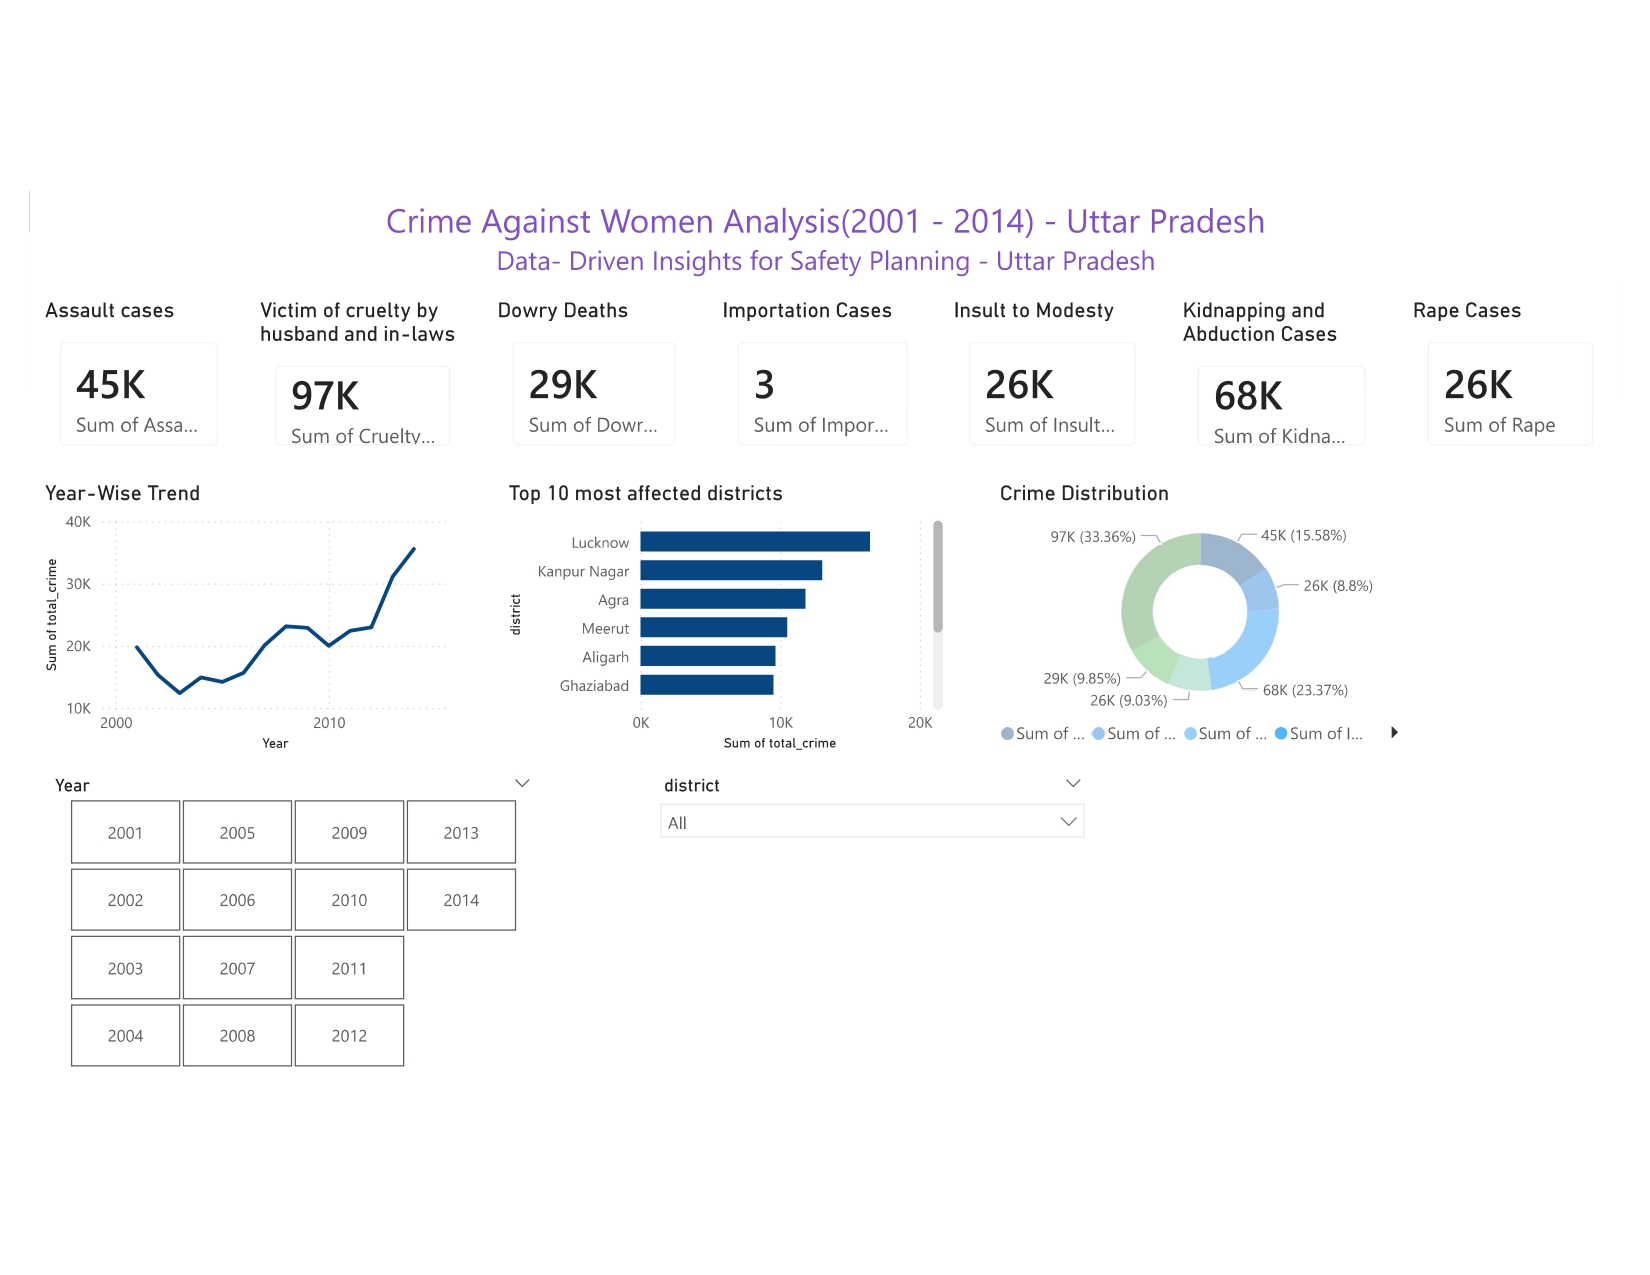

The page's visual inventory and layout, read from the dashboard file:
{"tool":"powerbi","page":{"name":"Page 1","canvas":[1280,720],"ordinal":0},"visuals":[{"type":"cardVisual","title":"Assault cases","fields":{"Data":["Sum(up_women_crime.Assault_to_outrage_her_modesty)"]},"box":[7.2,86.4,161,136.8],"z":0},{"type":"cardVisual","title":"Victim of cruelty by husband and in-laws","fields":{"Data":["Sum(up_women_crime.Cruelty_by_Husband_or_his_Relatives)"]},"box":[179.5,86.4,175.7,136.8],"z":1000},{"type":"cardVisual","title":"Dowry Deaths","fields":{"Data":["Sum(up_women_crime.Dowry_Deaths)"]},"box":[370.6,86.4,165.6,136.8],"z":2000},{"type":"cardVisual","title":"Importation Cases","fields":{"Data":["Sum(up_women_crime.Importation_Girls)"]},"box":[551.5,86.4,171.4,136.8],"z":3000},{"type":"cardVisual","title":"Insult to Modesty","fields":{"Data":["Sum(up_women_crime.Insult_to_modesty_of_Women)"]},"box":[738.2,86.4,168.5,136.8],"z":4000},{"type":"cardVisual","title":"Kidnapping and Abduction Cases","fields":{"Data":["Sum(up_women_crime.Kidnapping_Abduction)"]},"box":[922.1,86.4,169.9,136.8],"z":5000},{"type":"cardVisual","title":"Rape Cases","fields":{"Data":["Sum(up_women_crime.Rape)"]},"box":[1107.4,86.4,167,136.8],"z":6000},{"type":"lineChart","title":" Year-Wise Trend","fields":{"Y":["Sum(up_women_crime.total_crime)"],"Category":["up_women_crime.Year"]},"box":[7.2,233.3,337,221.8],"z":7000},{"type":"clusteredBarChart","title":"Top 10 most affected districts","fields":{"Category":["up_women_crime.district"],"Y":["Sum(up_women_crime.total_crime)"]},"box":[380.2,233.3,358.6,221.8],"z":8000},{"type":"donutChart","title":"Crime Distribution","fields":{"Y":["Sum(up_women_crime.Assault_to_outrage_her_modesty)","Sum(up_women_crime.Rape)","Sum(up_women_crime.Kidnapping_Abduction)","Sum(up_women_crime.Importation_Girls)","Sum(up_women_crime.Insult_to_modesty_of_Women)","Sum(up_women_crime.Dowry_Deaths)","Sum(up_women_crime.Cruelty_by_Husband_or_his_Relatives)"]},"box":[774.7,233.3,332.6,221.8],"z":9000},{"type":"slicer","fields":{"Values":["up_women_crime.Year"]},"box":[7,465,408,246],"z":10000},{"type":"slicer","fields":{"Values":["up_women_crime.district"]},"box":[497,465,361,246],"z":11000},{"type":"textbox","box":[0,0,1280.2,74.9],"z":12000}]}

Visuals, with their boxes on the page's 1280x720 design canvas (x1, y1, x2, y2). These are canvas units, not pixel positions in the 1650x1275 screenshot, which may show the page scaled, cropped or inside an application window:
"Assault cases" cardVisual: x1=7, y1=86, x2=168, y2=223
"Victim of cruelty by husband and in-laws" cardVisual: x1=180, y1=86, x2=355, y2=223
"Dowry Deaths" cardVisual: x1=371, y1=86, x2=536, y2=223
"Importation Cases" cardVisual: x1=552, y1=86, x2=723, y2=223
"Insult to Modesty" cardVisual: x1=738, y1=86, x2=907, y2=223
"Kidnapping and Abduction Cases" cardVisual: x1=922, y1=86, x2=1092, y2=223
"Rape Cases" cardVisual: x1=1107, y1=86, x2=1274, y2=223
" Year-Wise Trend" lineChart: x1=7, y1=233, x2=344, y2=455
"Top 10 most affected districts" clusteredBarChart: x1=380, y1=233, x2=739, y2=455
"Crime Distribution" donutChart: x1=775, y1=233, x2=1107, y2=455
slicer - up_women_crime.Year: x1=7, y1=465, x2=415, y2=711
slicer - up_women_crime.district: x1=497, y1=465, x2=858, y2=711
textbox: x1=0, y1=0, x2=1280, y2=75
